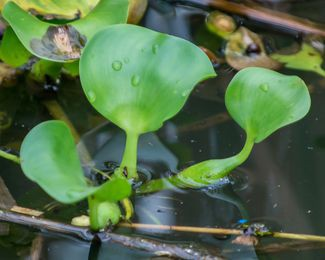water_hyacinth: (1, 20, 325, 239)
